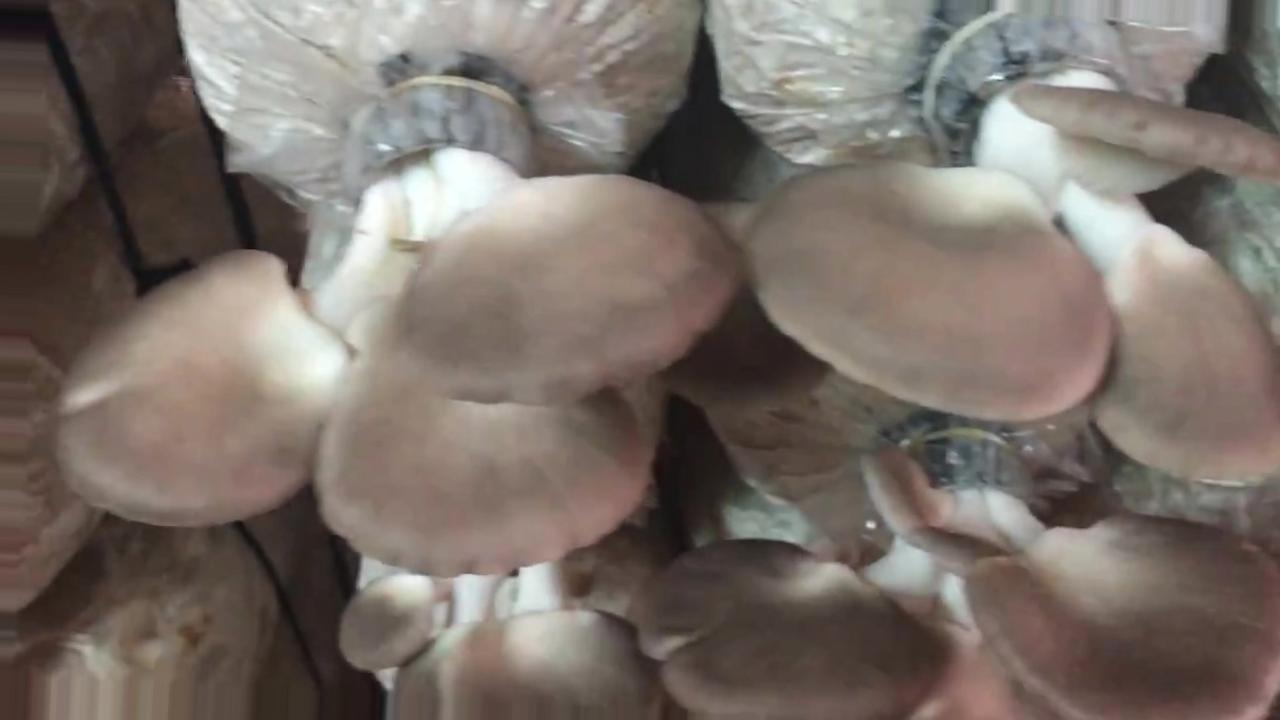nam: (66, 85, 742, 574), (748, 1, 1280, 480), (638, 430, 1280, 717), (340, 555, 660, 720)
